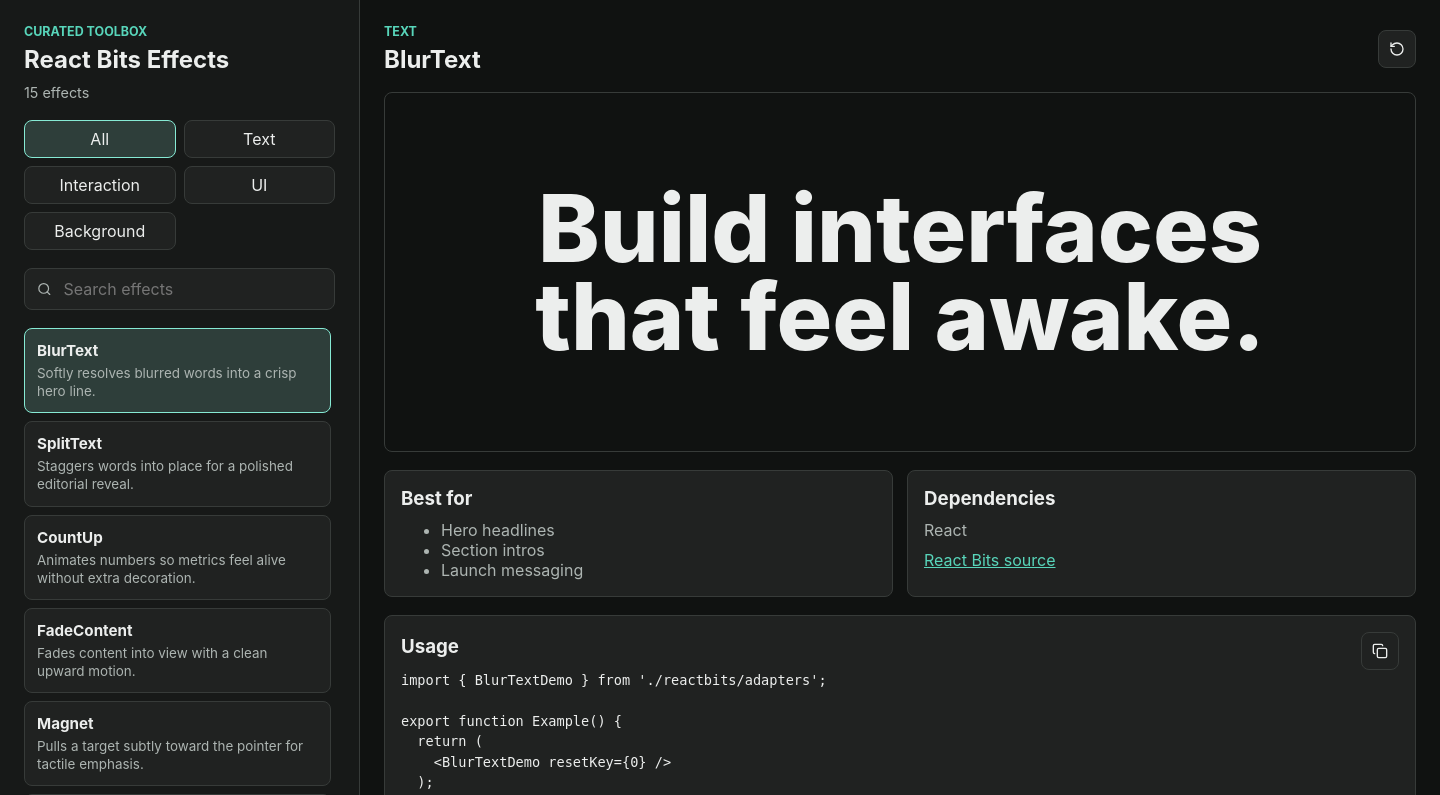
EffectLab › remounts the active preview when reset is clicked
Step 1. Click the button "CountUp" → (178, 557), box [24,515,331,600]
Wait 240 ms
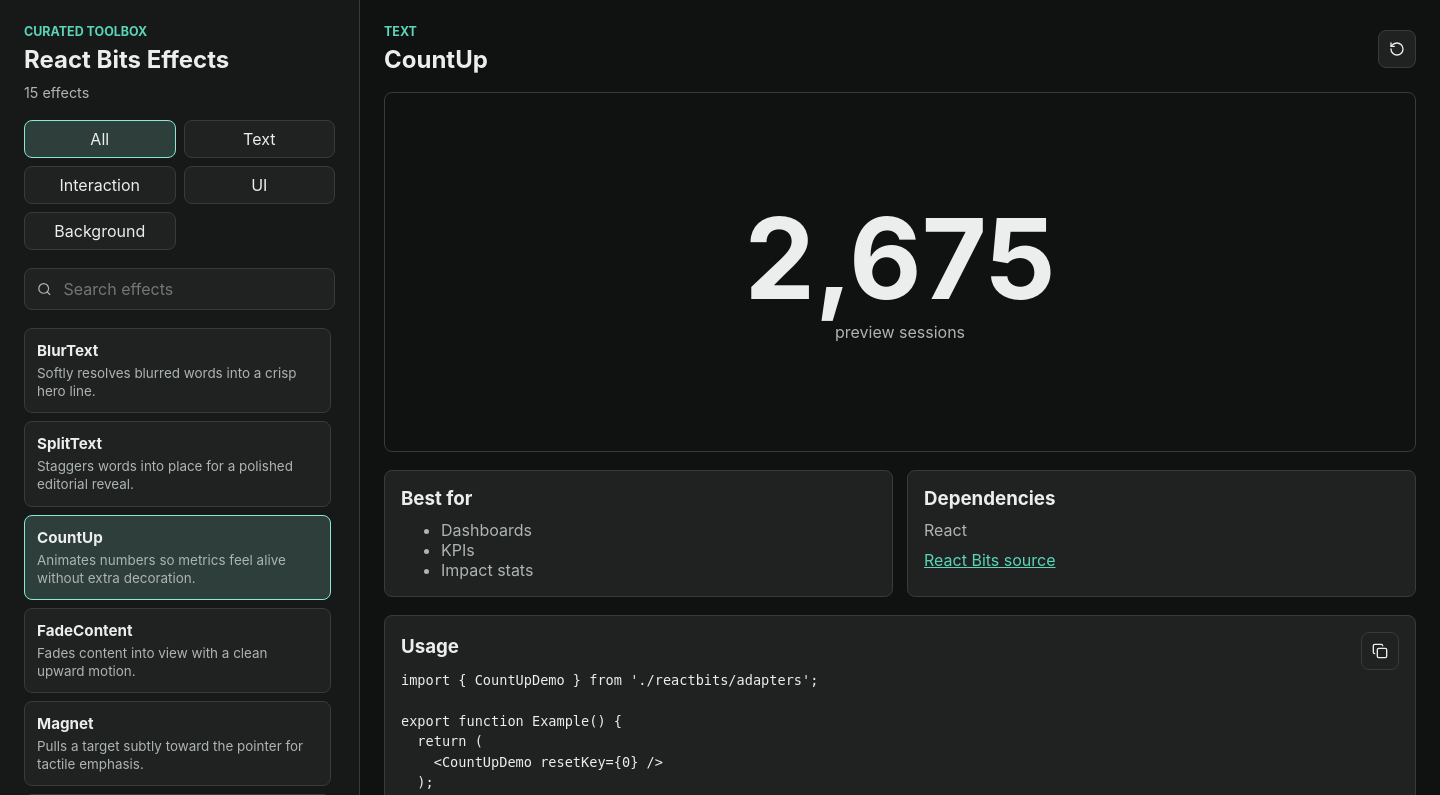
Expected: the text "0" is not shown
Result: the text "0" is shown at [744,202,1056,314]
Step 2. Click the button named "Reset preview" → (1397, 49), box [1378,30,1416,68]
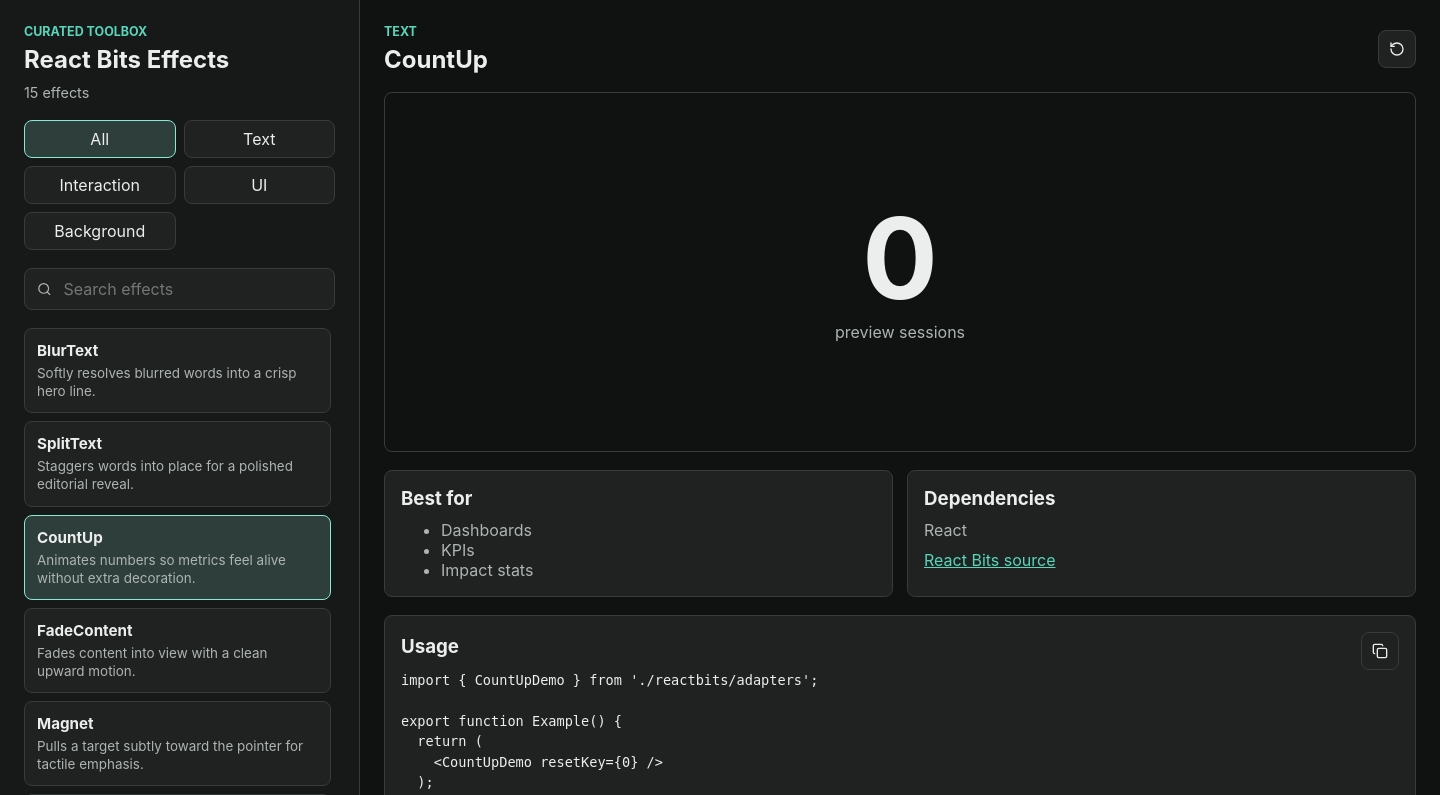
Result: the text "0" is shown at [862,190,938,326]
